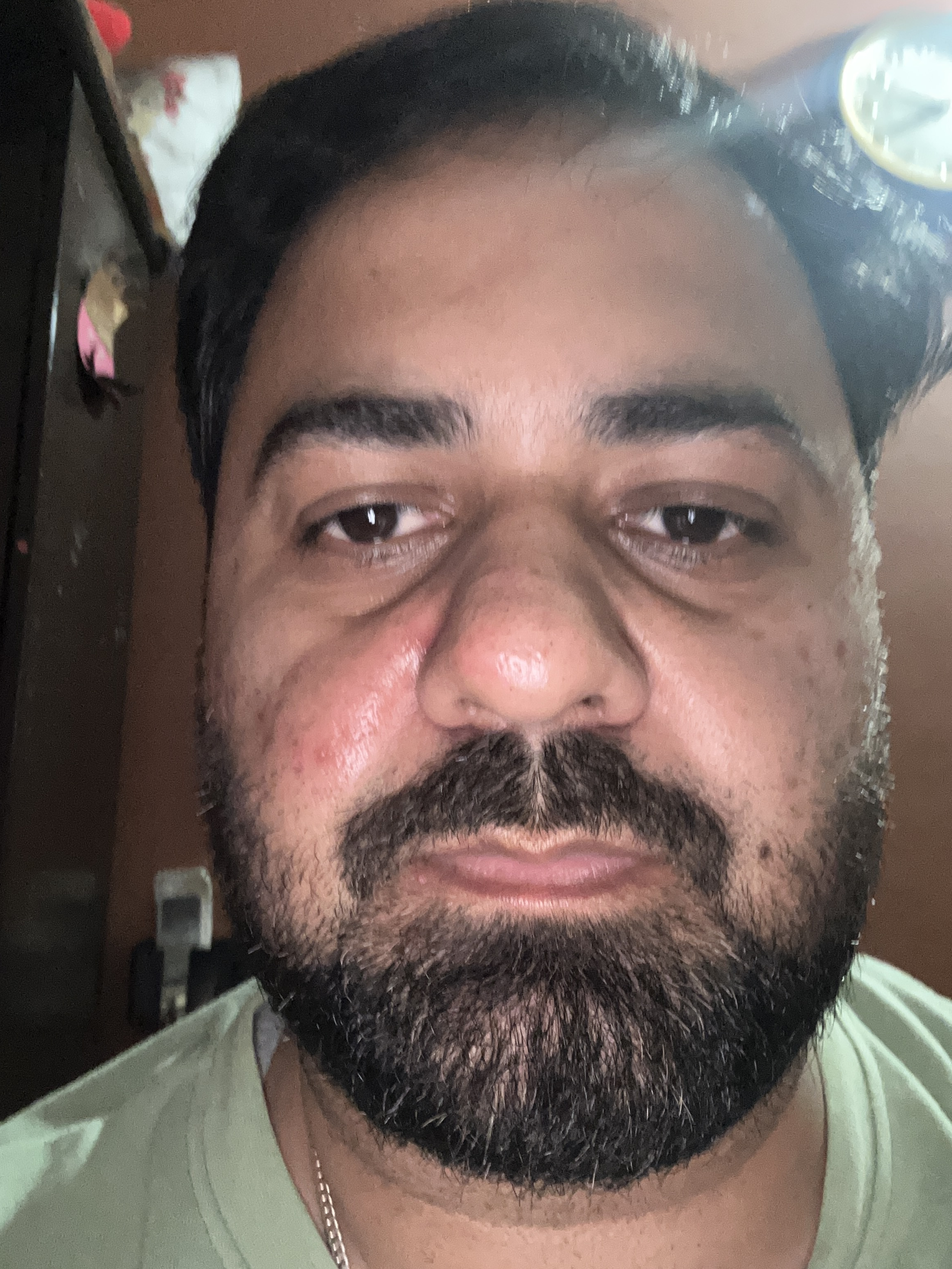open_comedone: (498, 601, 517, 615), (504, 684, 521, 696)
papule: (314, 748, 332, 766)
